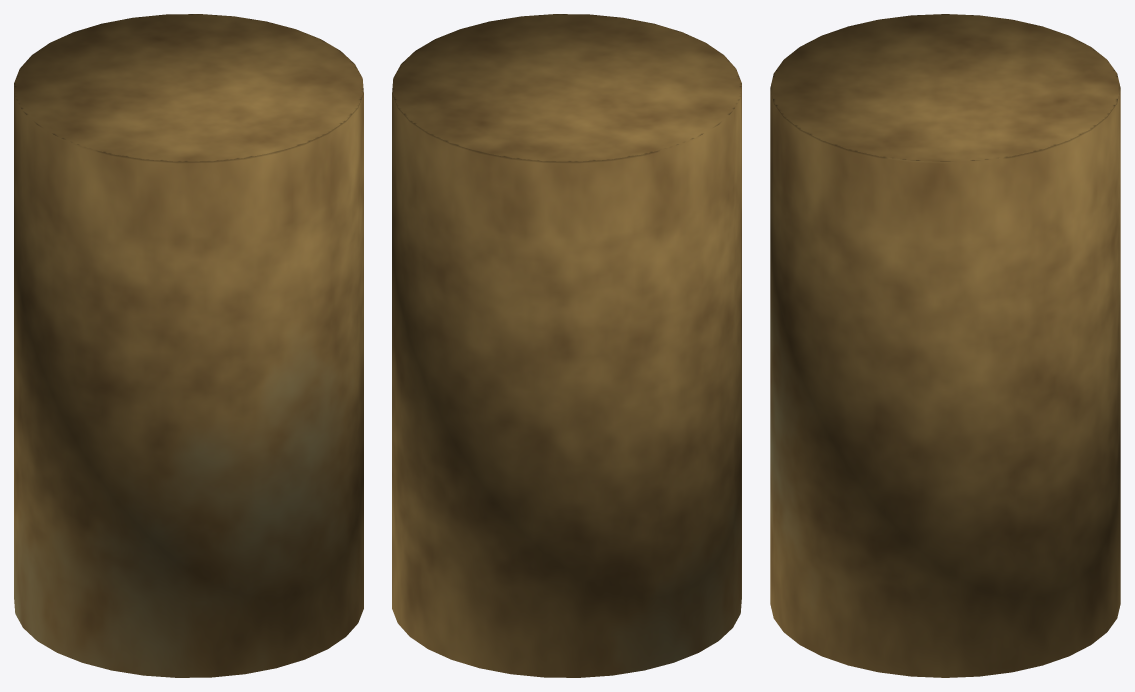
The model's file is Small bell crown__n10.glb.
3 renders of one model, left to right at view 1: azimuth 30°, elevation 25°; view 2: azimuth 150°, elevation 25°; view 3: azimuth 270°, elevation 25°, orthographic.
Parts seen in each view (by area): view 1: Small bell crown; view 2: Small bell crown; view 3: Small bell crown.
Part boxes in pixels (bbox=[...]): Small bell crown: bbox=[14, 14, 363, 677]; Small bell crown: bbox=[392, 14, 741, 677]; Small bell crown: bbox=[770, 14, 1120, 677].
Size of the model in its own units: 0.08 by 0.13 by 0.08.
Materials: 1 (1 with a texture image).
